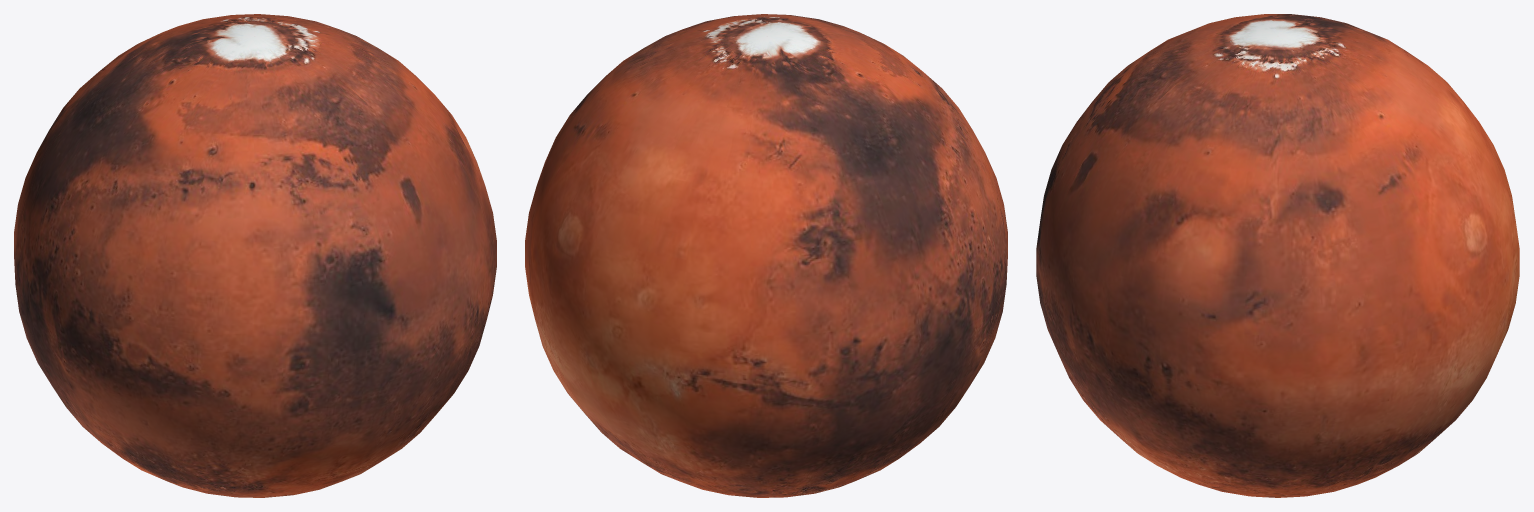
File: mars.obj
3 renders of one model, left to right at view 1: azimuth 30°, elevation 25°; view 2: azimuth 150°, elevation 25°; view 3: azimuth 270°, elevation 25°, orthographic.
Parts seen in each view (by area): view 1: mars; view 2: mars; view 3: mars.
Boxes of the visible parts, x1,y1,x2,y2 form: mars: (14, 14, 496, 497); mars: (525, 14, 1007, 497); mars: (1036, 14, 1519, 497).
Bounding box in the file's own units: 38.71 × 38.94 × 38.78.
1 material, 1 textured.
